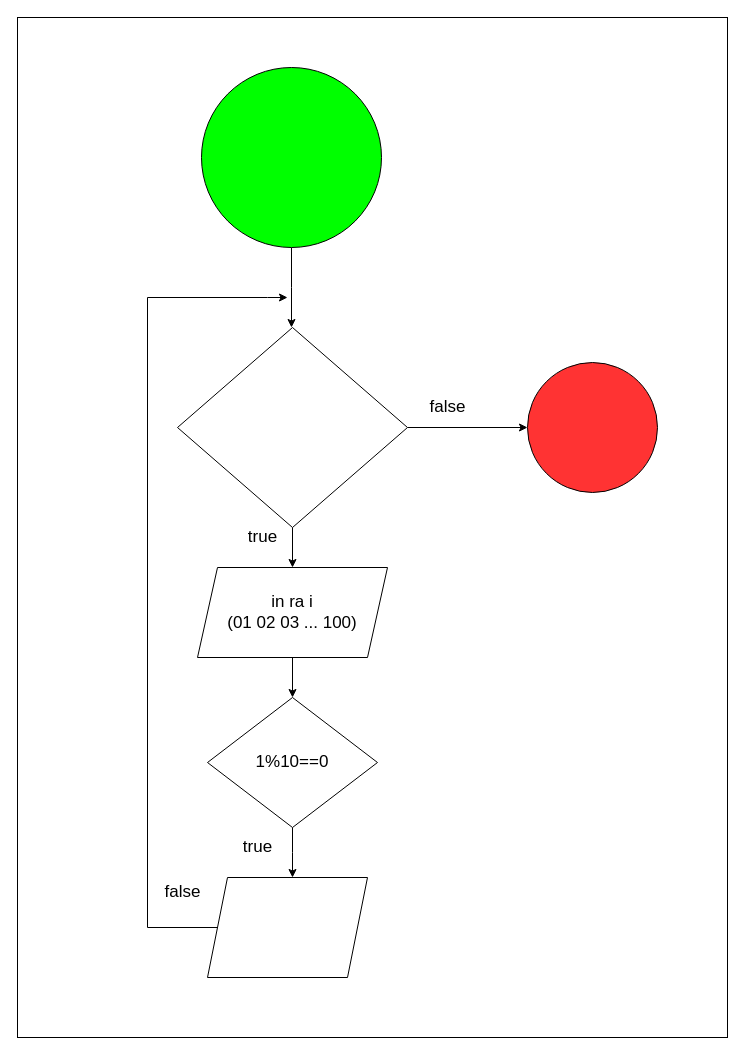
This 745x1055 diagram has some shape labels left out. The shapes that lost their labels are listed below. From the top down, each one's centre as x and y in pixels, then its label:
At pixel 292 427: "for (i=1;i<=100,i++);".
At pixel 287 927: "in ra xuống dòng".
